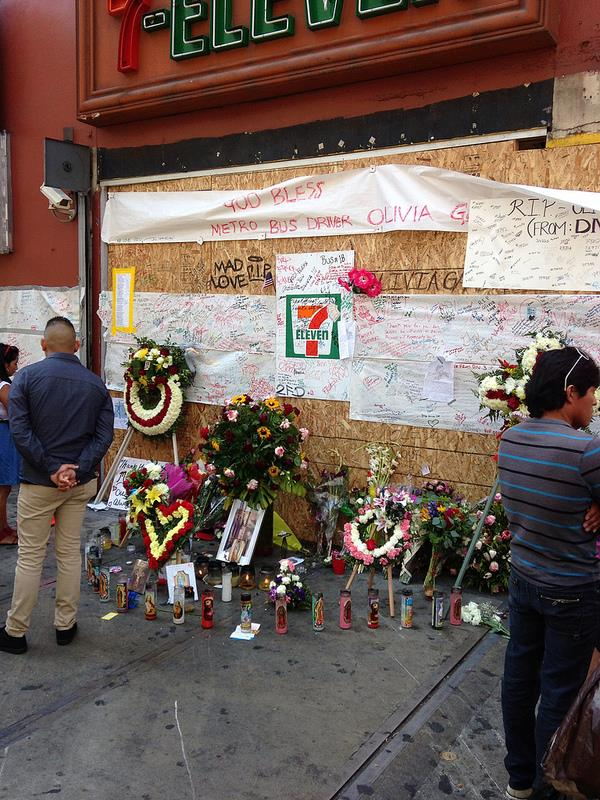seven_eleven: (289, 292, 339, 360)
